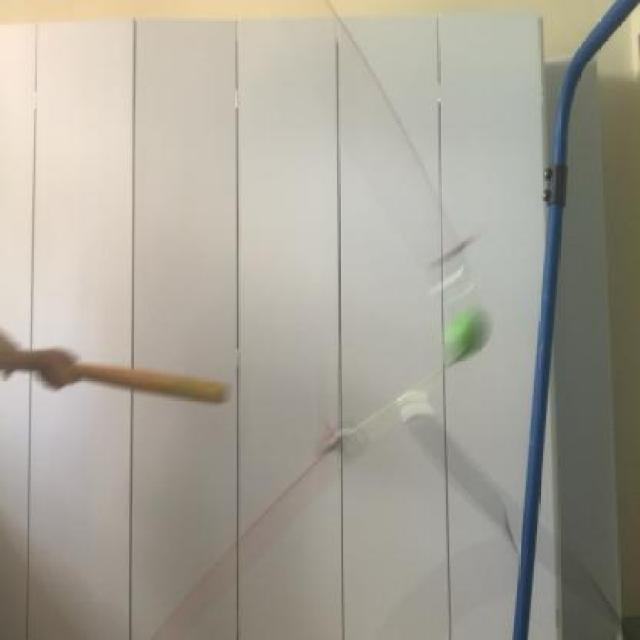baseball: (433, 298, 495, 367)
